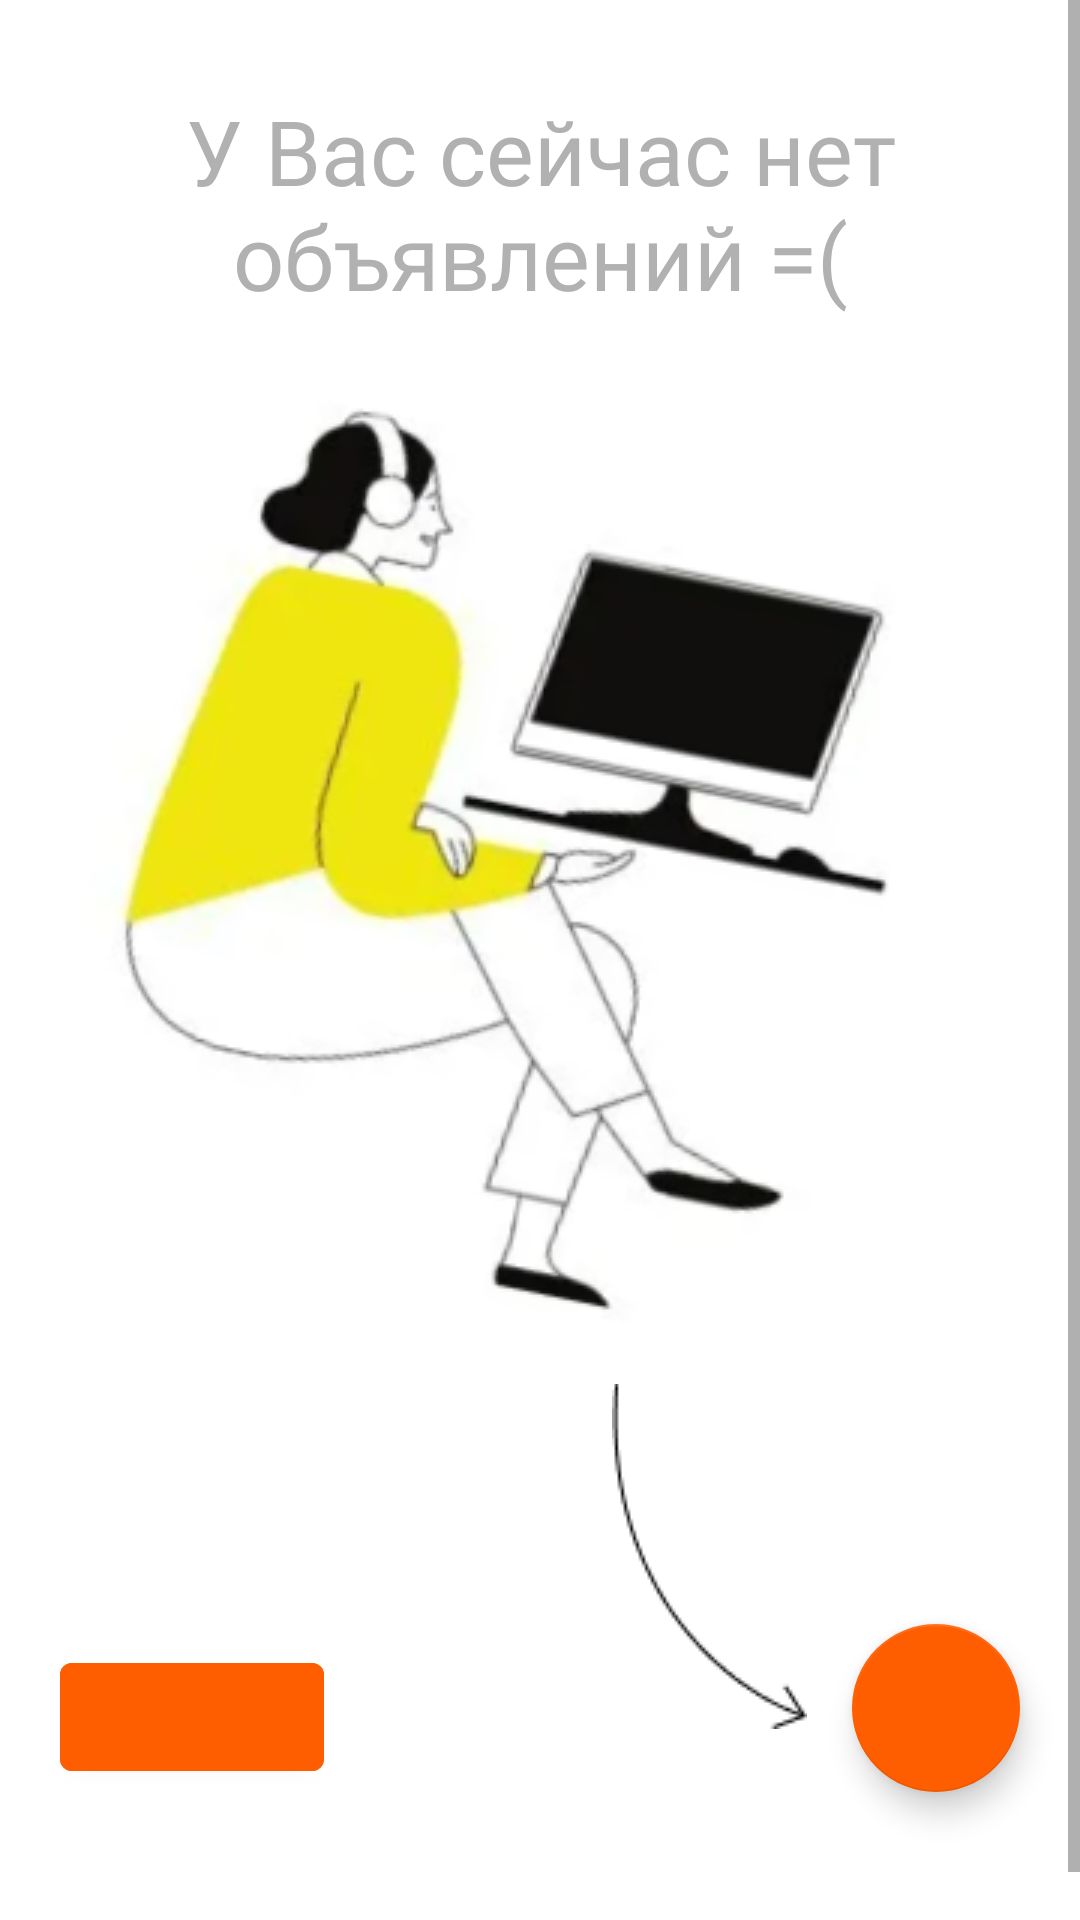

Screen size 1080w x 1920h. Icon name, then its center in pixels as point (x, y):
pointer empty ads: point (709, 1556)
